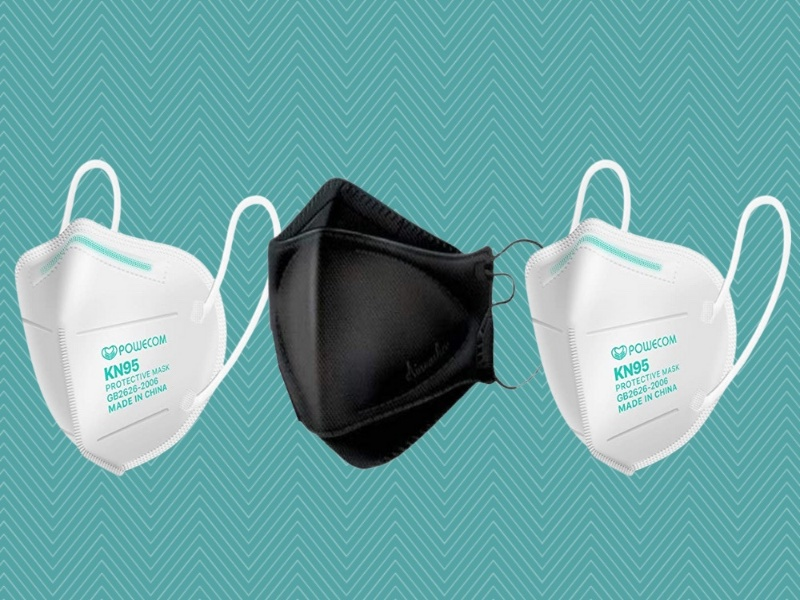mask: (227, 178, 518, 469), (520, 214, 783, 478), (1, 218, 259, 477)
